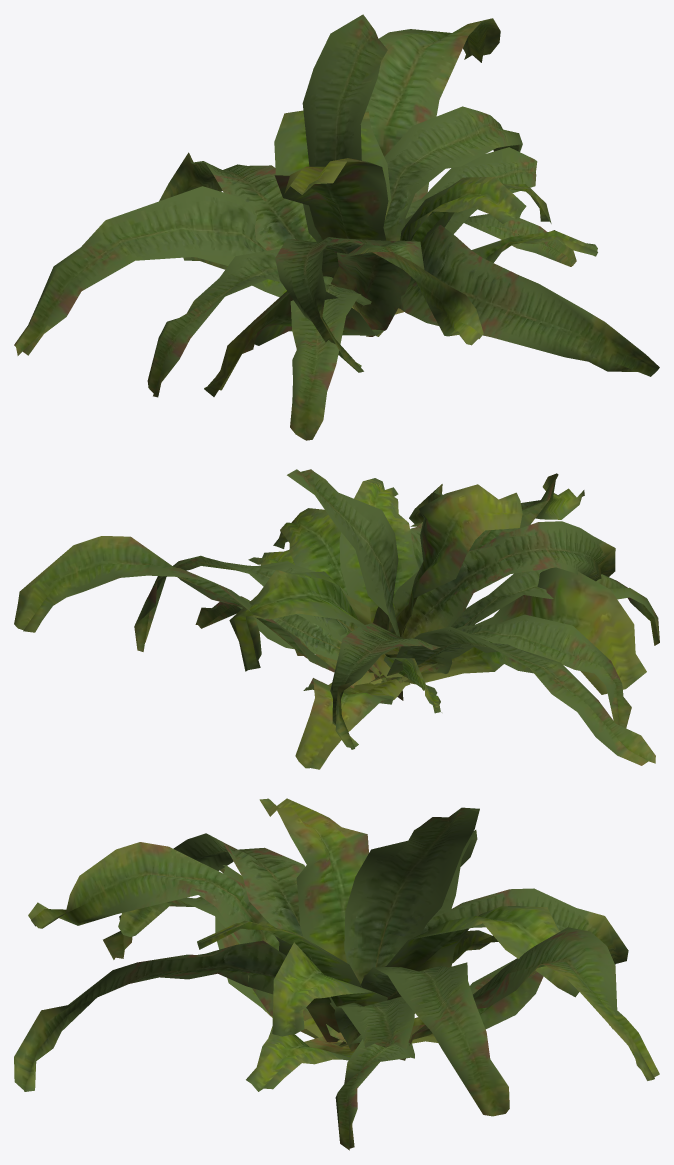
The model's file is fern_a.glb.
The picture shows the model from 3 angles, top to bottom: view 1: azimuth 30°, elevation 25°; view 2: azimuth 150°, elevation 25°; view 3: azimuth 270°, elevation 25°; orthographic projection. The views are drawn at different scales.
Visible parts, largest first — view 1: fern_02_b; view 2: fern_02_b; view 3: fern_02_b.
Boxes of the visible parts, x1,y1,x2,y2 form: fern_02_b: (14,14,659,440); fern_02_b: (14,469,659,769); fern_02_b: (14,798,659,1150).
Size of the model in its own units: 0.9897 by 0.4277 by 0.8937.
1 material, 1 textured.
